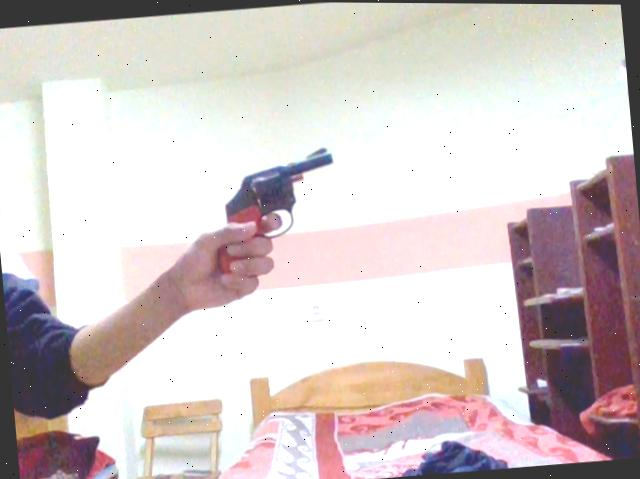pistol: (164, 112, 375, 320)
